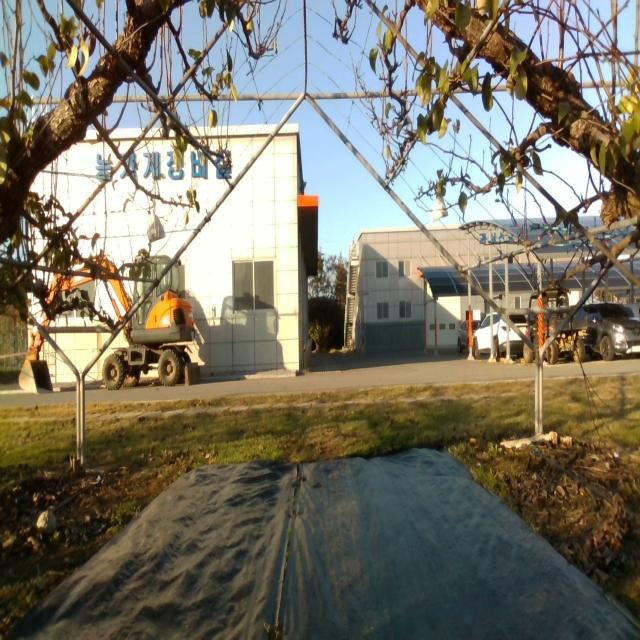pearbags: (147, 212, 167, 243), (431, 196, 449, 222)
